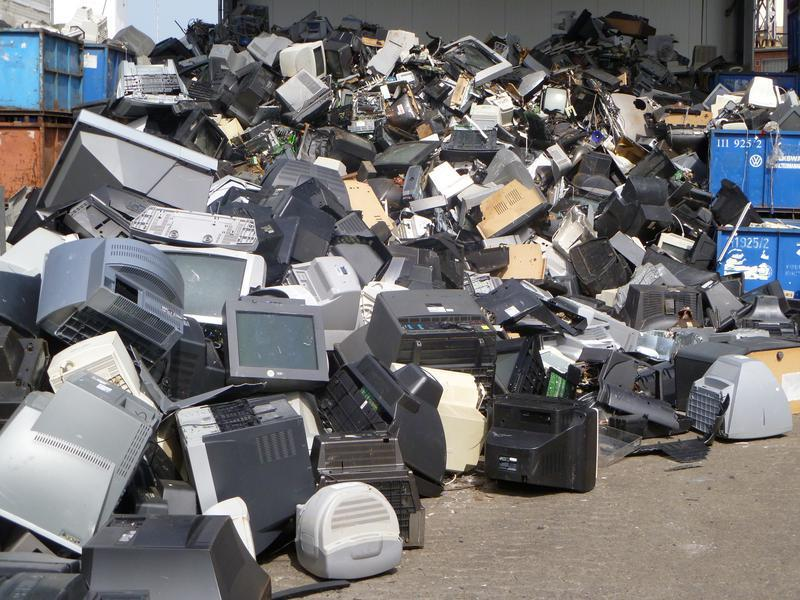tv_pc: (1, 369, 166, 556), (175, 398, 316, 561), (34, 234, 186, 364), (479, 386, 605, 495), (215, 283, 337, 392), (141, 240, 270, 328), (681, 353, 796, 443), (369, 136, 445, 175), (277, 38, 332, 81)
